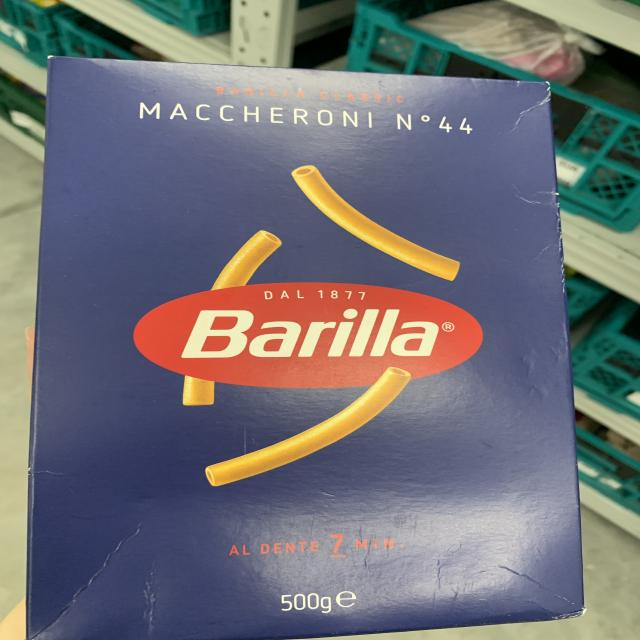object_name: (48, 58, 576, 620)
